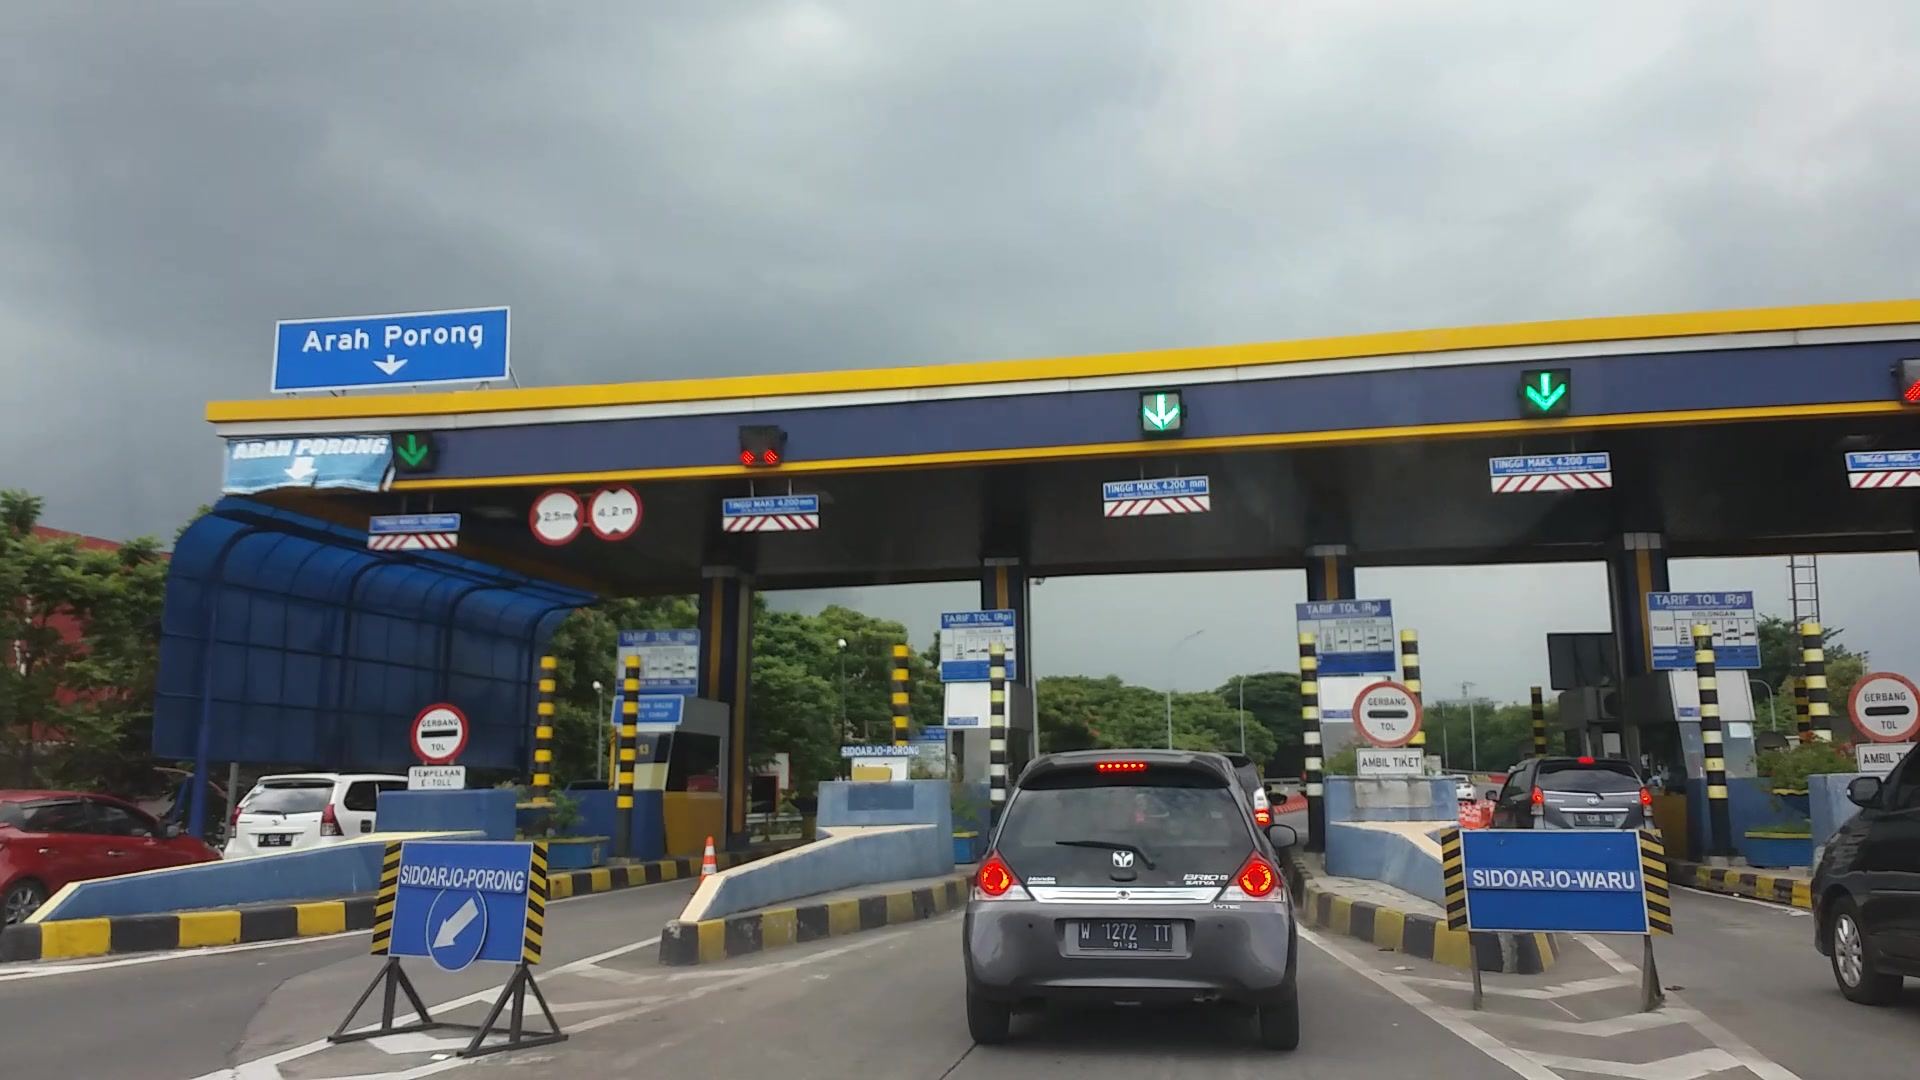plate_positive: (1077, 920, 1172, 949)
